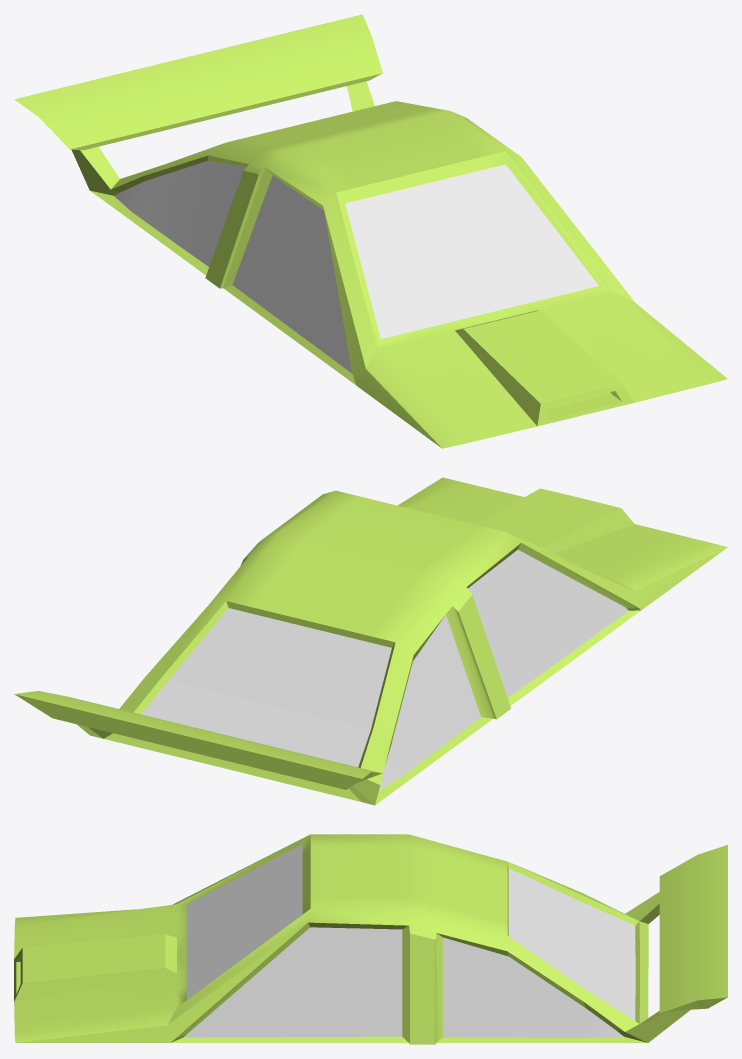
Rendered from SPORT-TOP-j7TzxVX8.glb.
3 views of the same model, one above another, from view 1: azimuth 30°, elevation 25°; view 2: azimuth 150°, elevation 25°; view 3: azimuth 270°, elevation 25° (orthographic). The views are drawn at different scales.
Size of the model in its own units: 1.83 by 0.6125 by 3.63.
1 material, 1 textured.
